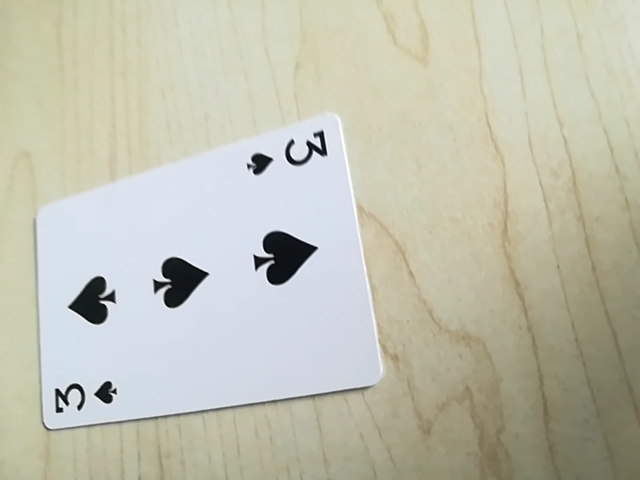ht 3: (243, 128, 332, 178), (46, 370, 124, 422)
